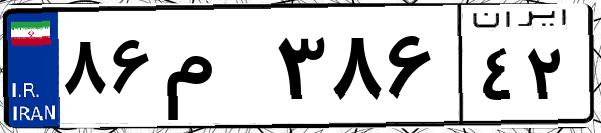2: (525, 38, 570, 115)
3: (270, 28, 330, 110)
4: (475, 38, 525, 113)
6: (385, 28, 445, 110), (110, 28, 158, 98)
8: (330, 28, 385, 110), (57, 26, 110, 100)
م: (158, 20, 270, 120)
